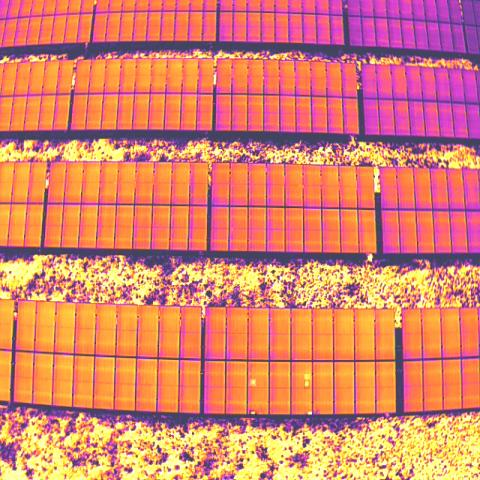fault: (304, 380, 310, 389), (306, 410, 314, 416), (250, 379, 256, 386), (249, 410, 257, 415), (304, 374, 310, 379)
